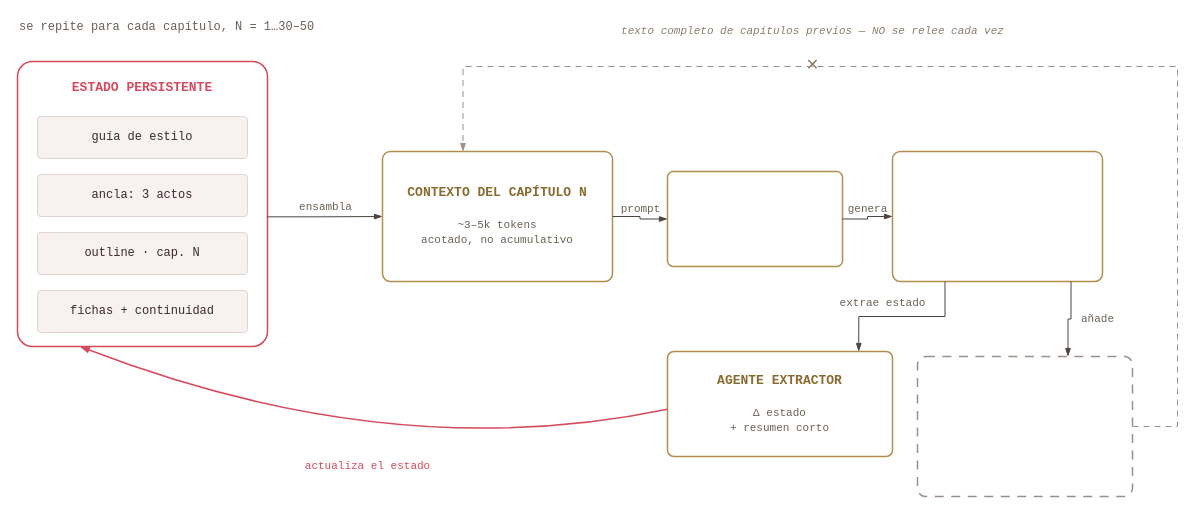
Image size: 1204x514. Some labels were removed from this diagram. The centre of each missing label's shape, as x and y in pixels:
AGENTE ESCRITOR redacta prosa: (x=754, y=218)
ARCHIVO DEL MANUSCRITO cap. 1…N solo escritura: (x=1024, y=426)
CAPÍTULO N borrador (texto crudo): (x=997, y=216)
